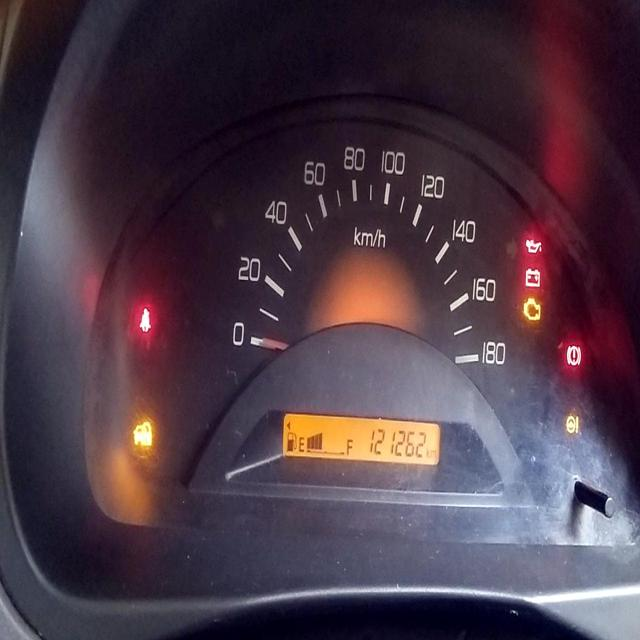odometer: (369, 422, 427, 463)
